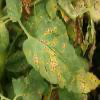Tomato Septoria leaf spot: (23, 21, 90, 92)
